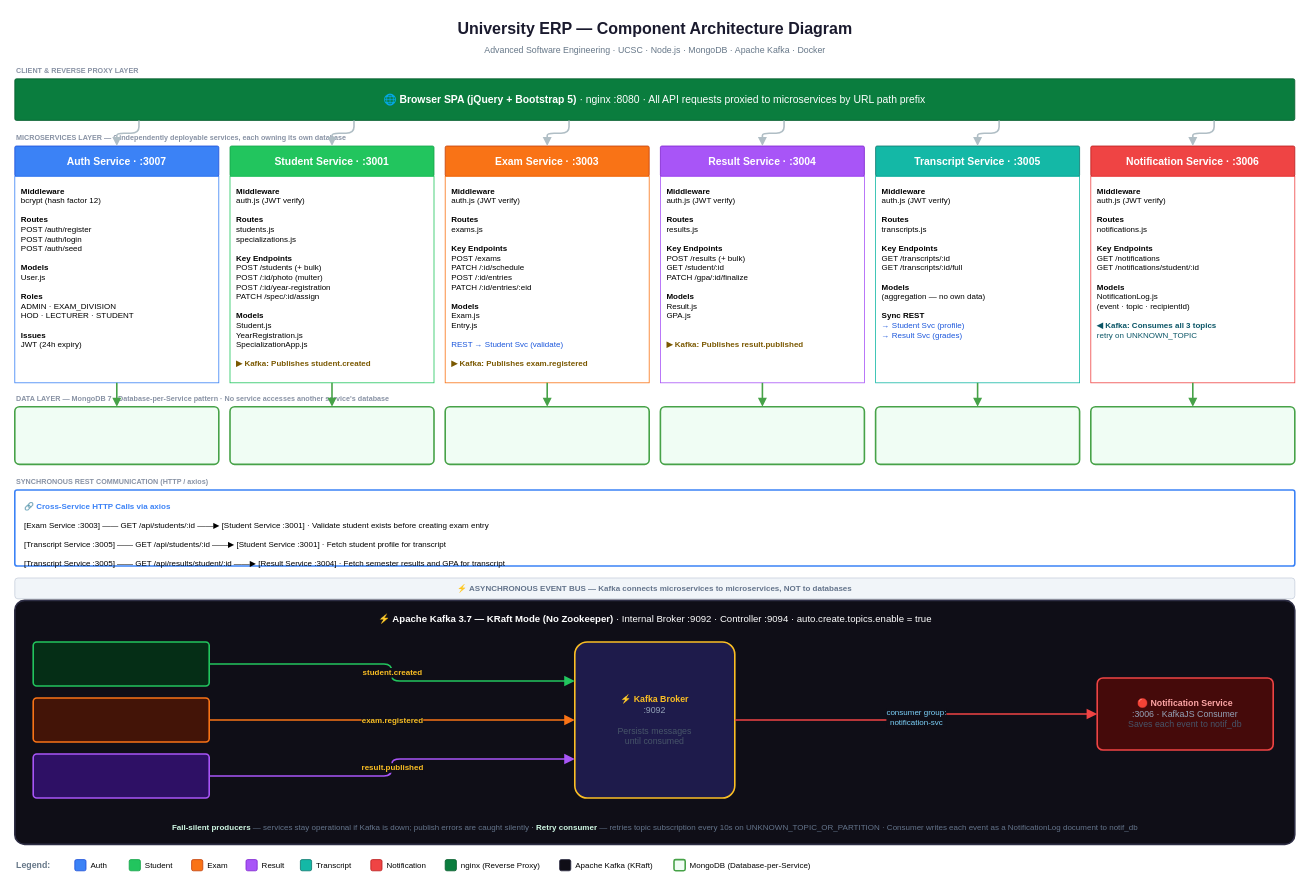
Some shapes in this 1309 by 887 pixel diagram are drawn without their labels. The shapes that lost their labels are listed below. From the top down, each one's centre as x and y in pixels, then its label:
At pixel 116 435: "🗄️ auth_db Auth Service".
At pixel 331 435: "🗄️ students_db Student Service".
At pixel 547 435: "🗄️ exams_db Exam Service".
At pixel 762 435: "🗄️ results_db Result Service".
At pixel 977 435: "🗄️ transcripts_db Transcript Service".
At pixel 1192 435: "🗄️ notif_db Notification Service".
At pixel 121 663: "🟢 Student Service :3001 · KafkaJS Producer".
At pixel 121 719: "🟠 Exam Service :3003 · KafkaJS Producer".
At pixel 121 775: "🟣 Result Service :3004 · KafkaJS Producer".
